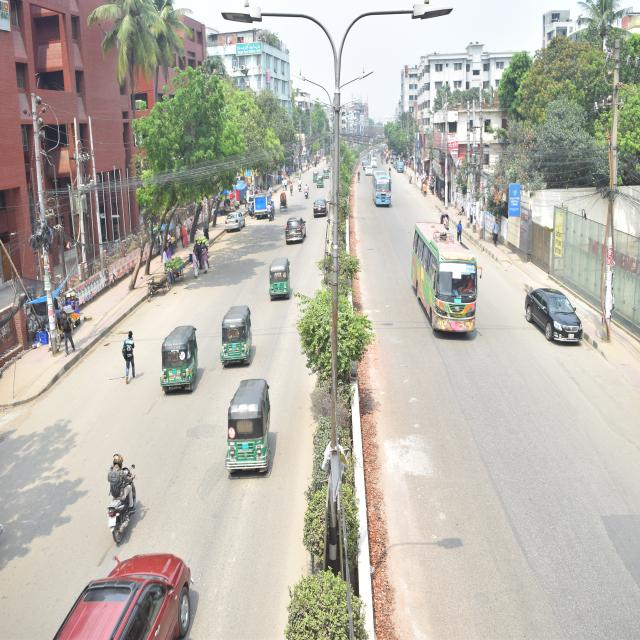bus: (406, 210, 492, 360), (370, 166, 399, 214)
car: (42, 548, 216, 640), (524, 276, 586, 364), (279, 211, 311, 248), (305, 196, 334, 223), (222, 209, 248, 234)
motorbike: (97, 443, 144, 547)
